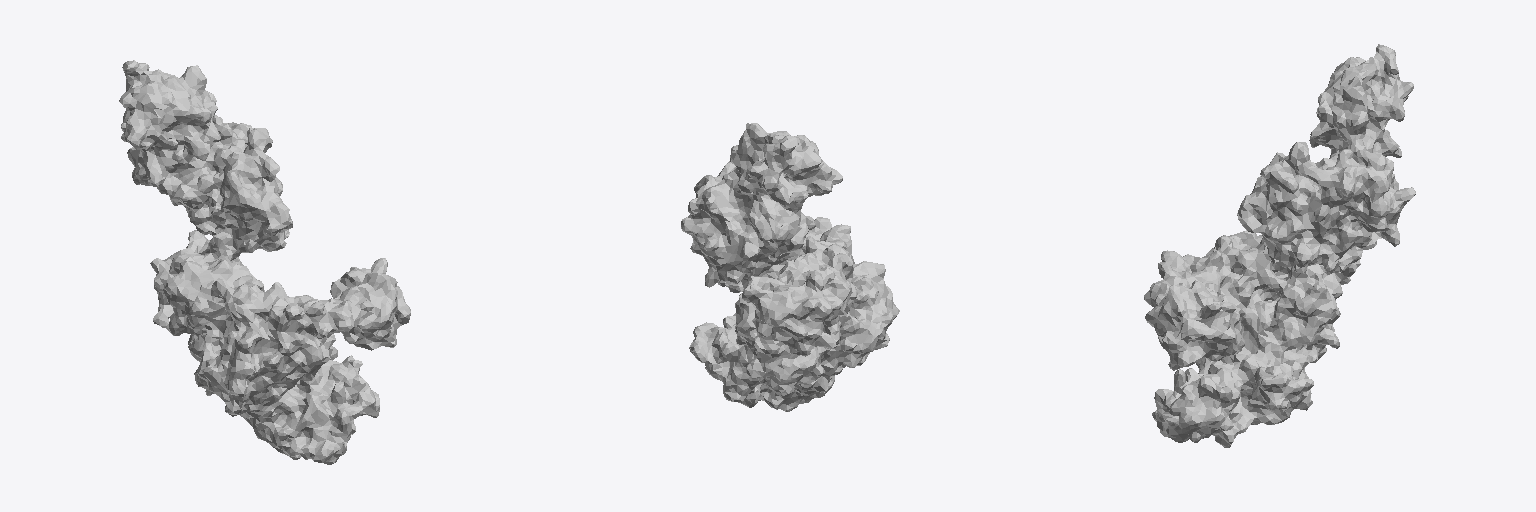
The picture shows the model from 3 angles: view 1: azimuth 30°, elevation 25°; view 2: azimuth 150°, elevation 25°; view 3: azimuth 270°, elevation 25°; orthographic projection.
Parts seen in each view (by area): view 1: mmGroup0; view 2: mmGroup0; view 3: mmGroup0.
Part boxes in pixels (left/top/right/bottom): mmGroup0: left=119, top=60, right=410, bottom=464; mmGroup0: left=681, top=123, right=899, bottom=411; mmGroup0: left=1144, top=44, right=1415, bottom=447.
Size of the model in its own units: 73.74 by 121 by 85.08.